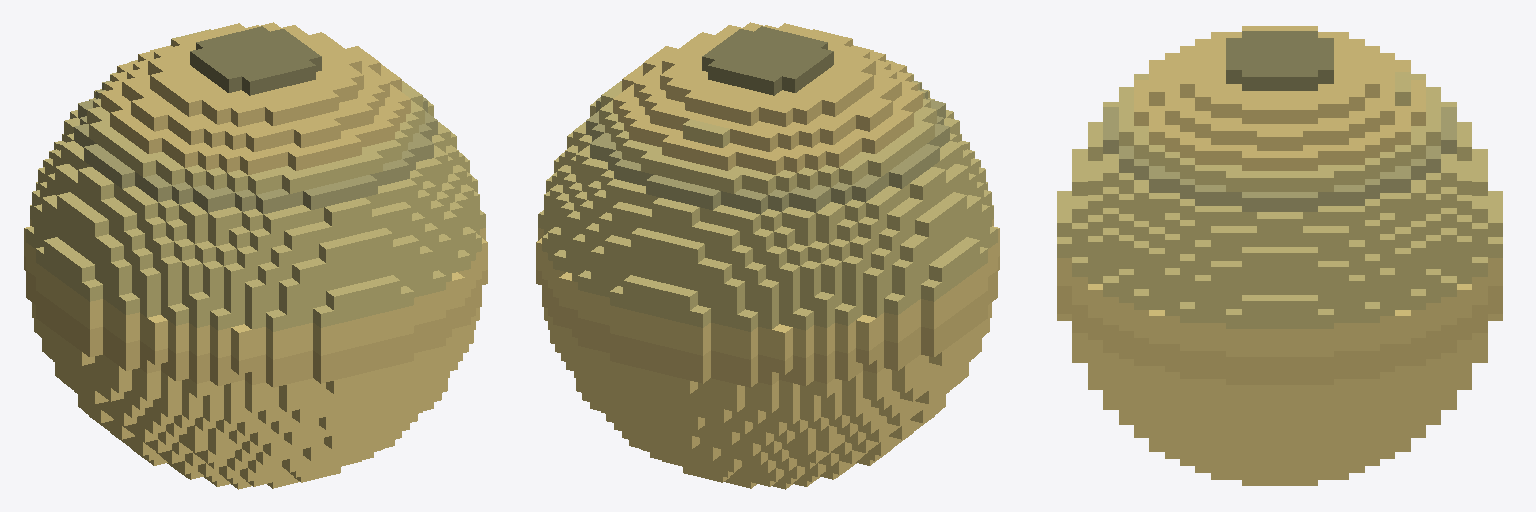
3 renders of one model, left to right at view 1: azimuth 30°, elevation 25°; view 2: azimuth 150°, elevation 25°; view 3: azimuth 270°, elevation 25°, orthographic.
Parts seen in each view (by area): view 1: saturn-0; view 2: saturn-0; view 3: saturn-0.
Part boxes in pixels (x1,y1,x2,y2): saturn-0: (24, 22, 487, 489); saturn-0: (536, 22, 999, 489); saturn-0: (1057, 26, 1502, 485).
Bounding box in the file's own units: 29 × 29 × 29.
1 materials, 1 textured.